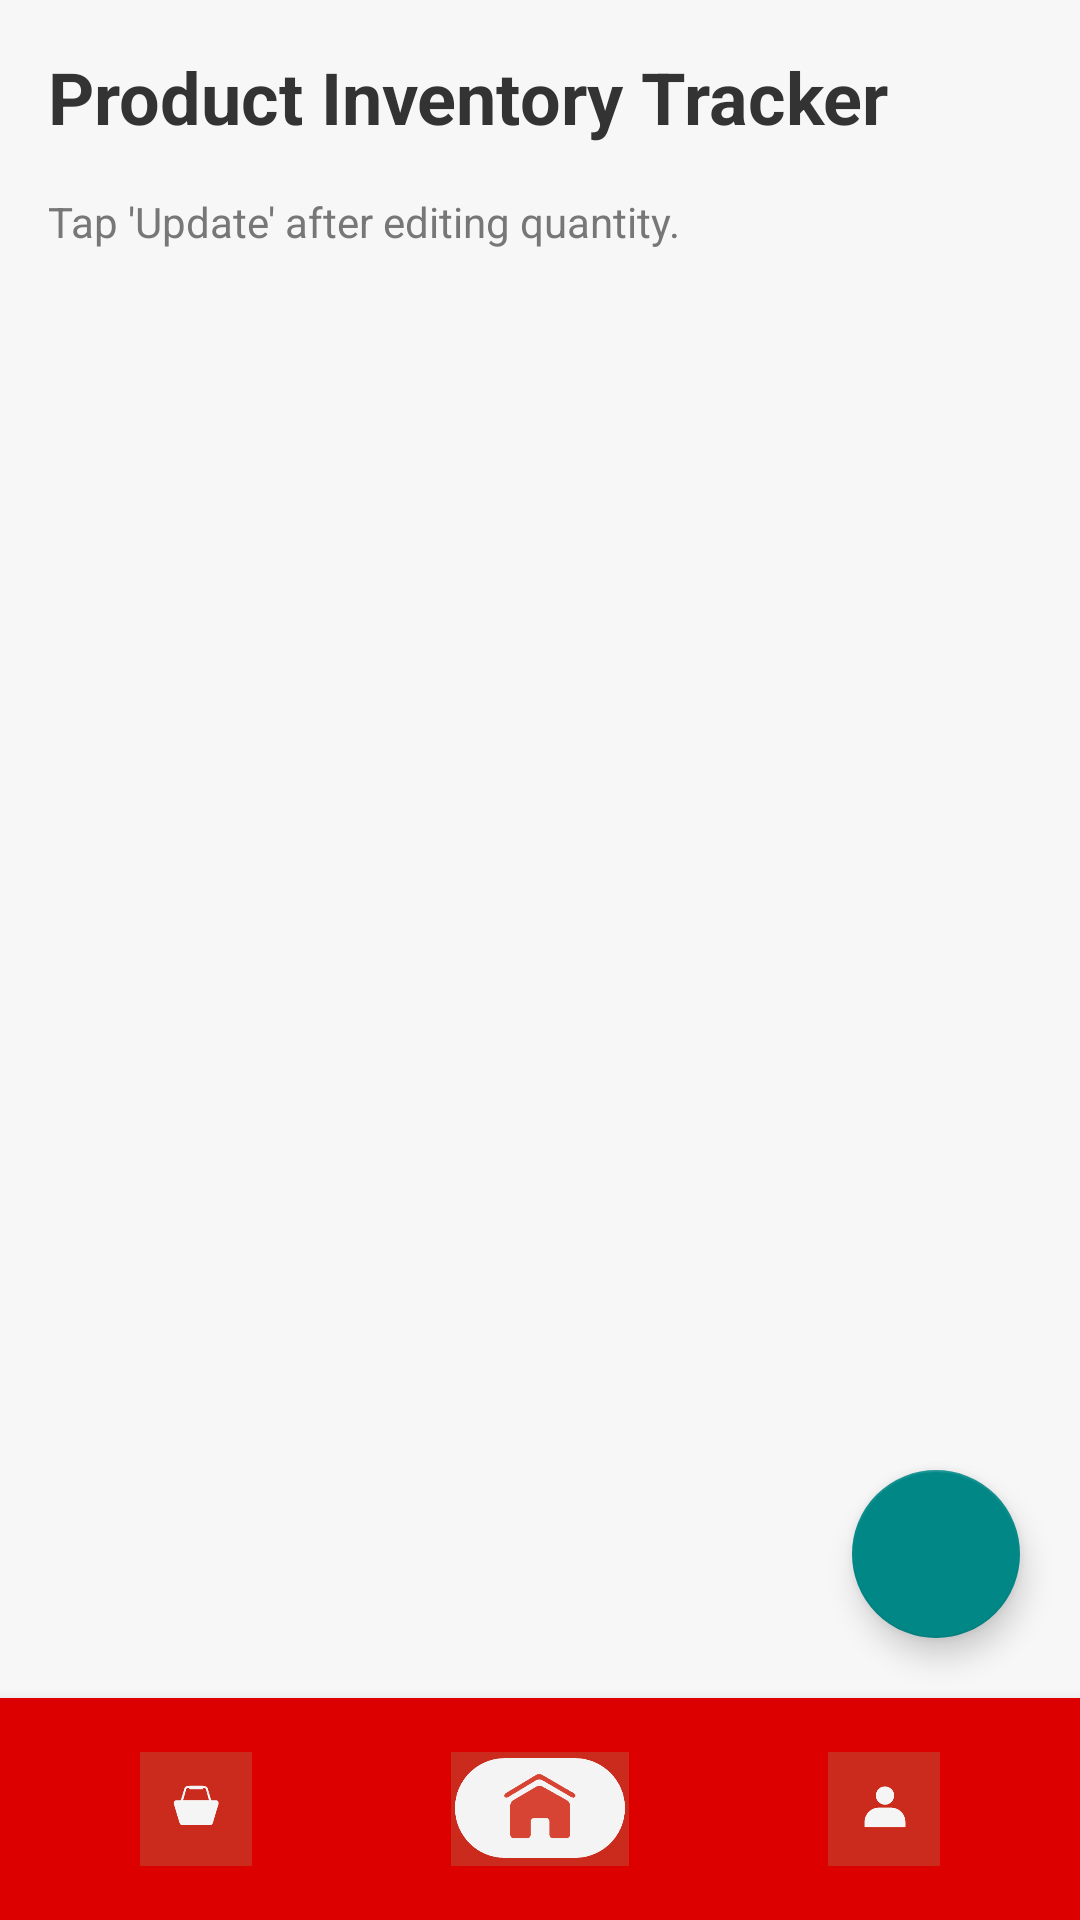

Icon bounding boxes for this 1080 x 1920 phone screenshot, format bbox=(x1, y1, x2, y2):
Home: bbox=(451, 1752, 629, 1866)
